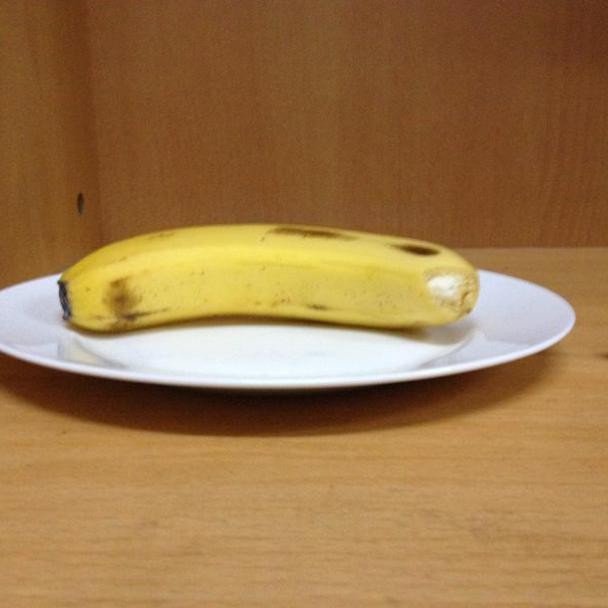banana: (55, 214, 488, 348)
